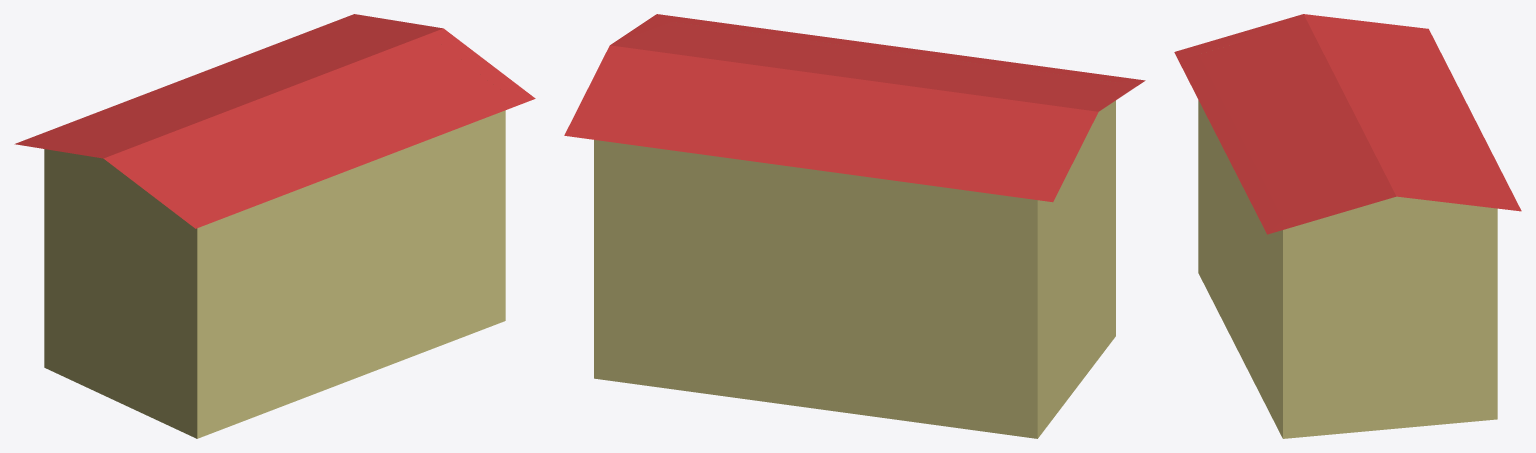
3 views of the same model, side by side, from view 1: azimuth 30°, elevation 25°; view 2: azimuth 150°, elevation 25°; view 3: azimuth 270°, elevation 25° (orthographic). The views are drawn at different scales.
Size of the model in its own units: 11.87 by 8.48 by 6.48.
